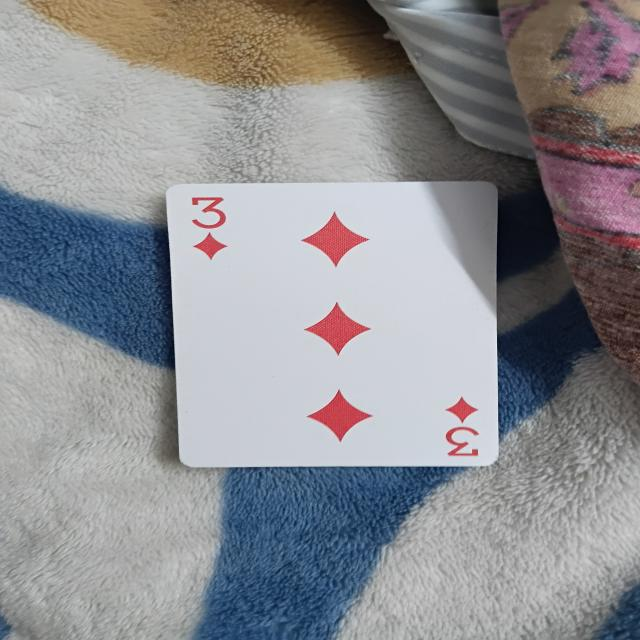3D: (167, 182, 499, 467)
